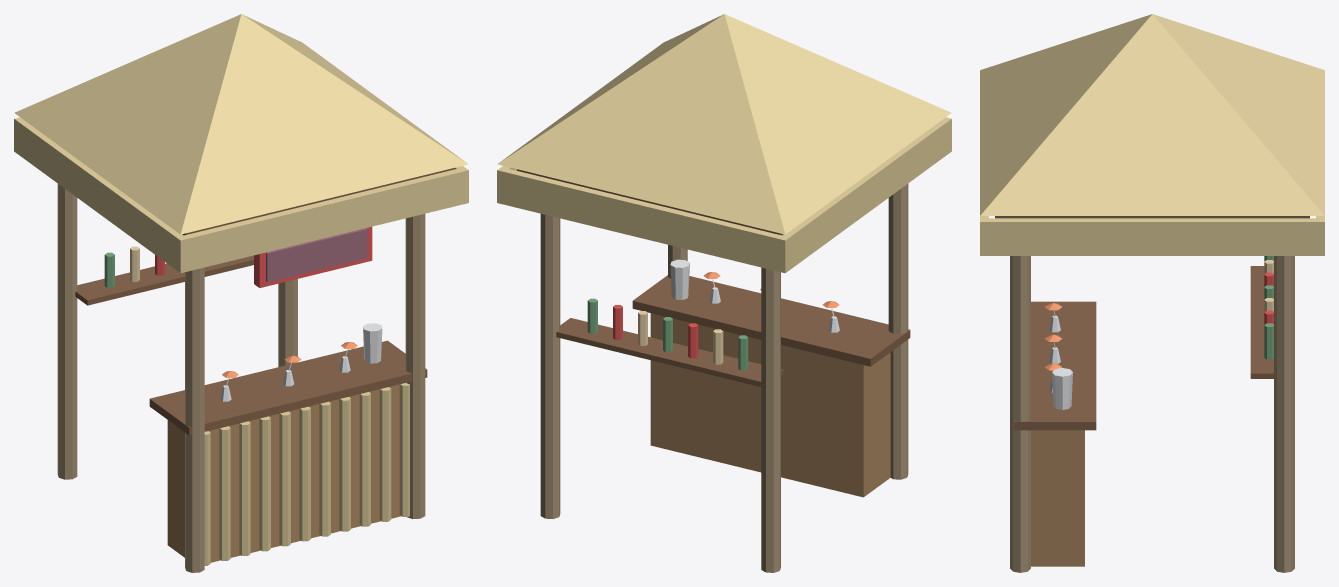
Rendered from HJ_BarPiscina.fbx.
3 views of the same model, side by side, from view 1: azimuth 30°, elevation 25°; view 2: azimuth 150°, elevation 25°; view 3: azimuth 270°, elevation 25° (orthographic). The views are drawn at different scales.
Visible parts, largest first — view 1: HJ_BarPiscina; view 2: HJ_BarPiscina; view 3: HJ_BarPiscina.
Boxes of the visible parts, bbox=[...] form: HJ_BarPiscina: bbox=[14, 14, 468, 572]; HJ_BarPiscina: bbox=[497, 14, 951, 572]; HJ_BarPiscina: bbox=[980, 14, 1324, 572].
Size of the model in its own units: 2.3 by 3.67 by 2.3.
